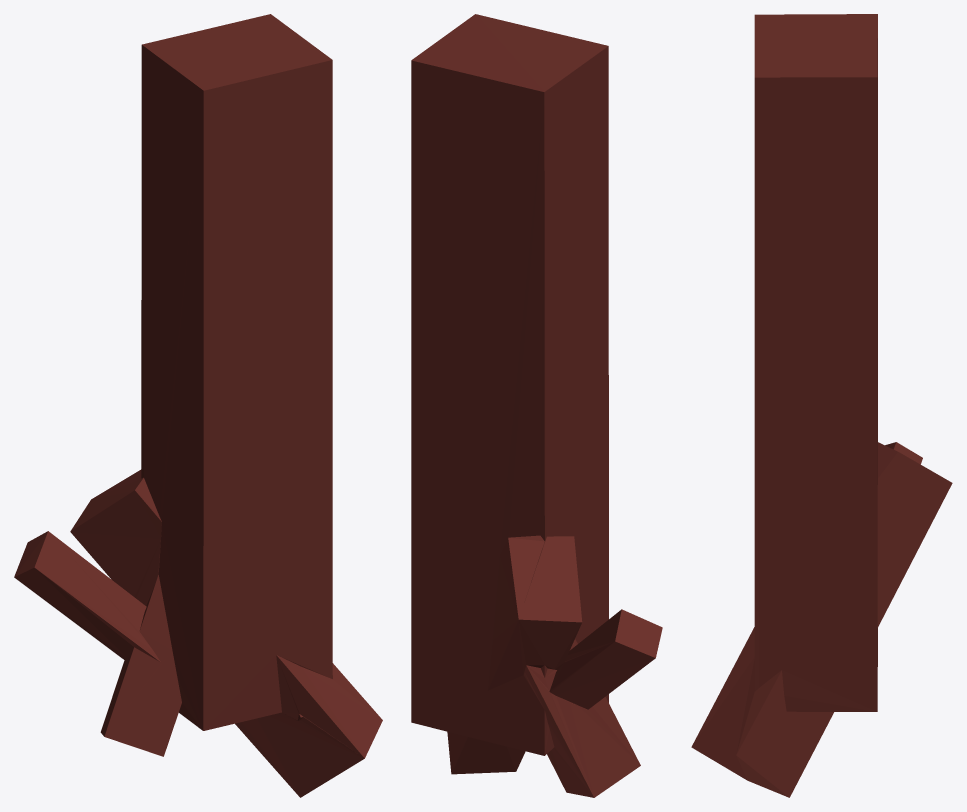
3 views of the same model, side by side, from view 1: azimuth 30°, elevation 25°; view 2: azimuth 150°, elevation 25°; view 3: azimuth 270°, elevation 25° (orthographic). The views are drawn at different scales.
Parts seen in each view (by area): view 1: 442_Cube.1789; view 2: 442_Cube.1789; view 3: 442_Cube.1789.
Boxes of the visible parts, x1,y1,x2,y2 form: 442_Cube.1789: [14, 14, 382, 797]; 442_Cube.1789: [411, 14, 662, 797]; 442_Cube.1789: [691, 14, 952, 797].
Size of the model in its own units: 5.65 by 13.66 by 4.48.
